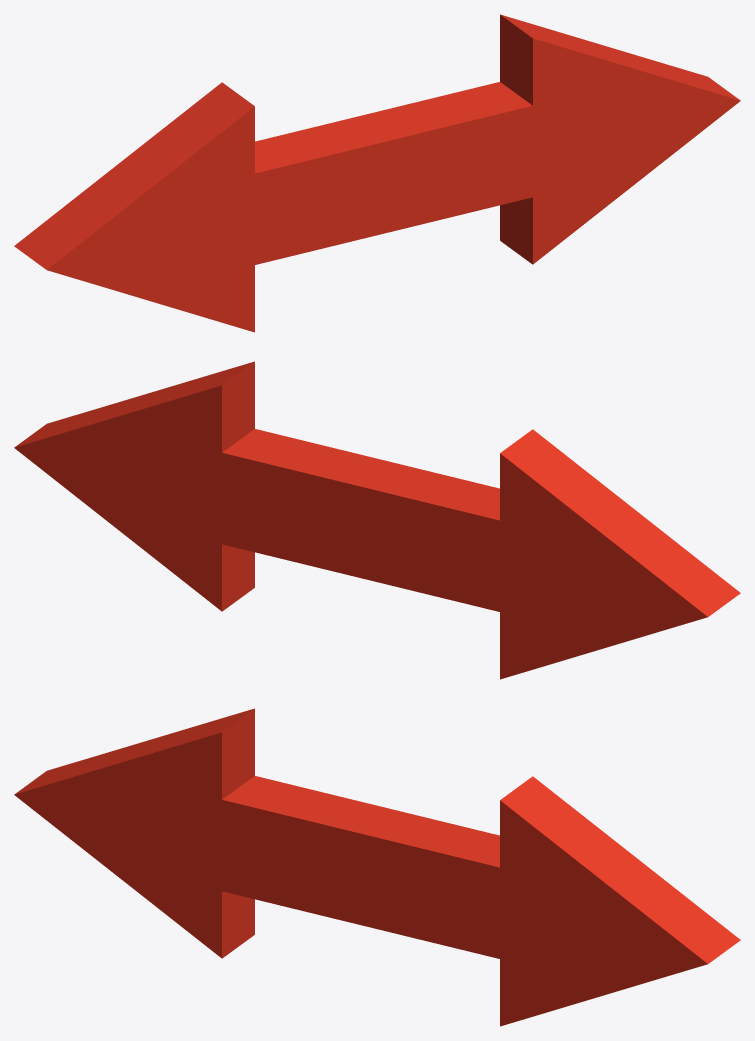
File: Icon_Arrow_02.fbx
The picture shows the model from 3 angles, top to bottom: view 1: azimuth 30°, elevation 25°; view 2: azimuth 150°, elevation 25°; view 3: azimuth 330°, elevation 25°; orthographic projection.
Visible parts, largest first — view 1: Icon_Arrow_02; view 2: Icon_Arrow_02; view 3: Icon_Arrow_02.
Part boxes in pixels (x1,y1,x2,y2): Icon_Arrow_02: [14, 14, 740, 332]; Icon_Arrow_02: [14, 361, 740, 679]; Icon_Arrow_02: [14, 708, 740, 1026].
Size of the model in its own units: 147 by 45.92 by 12.06.
